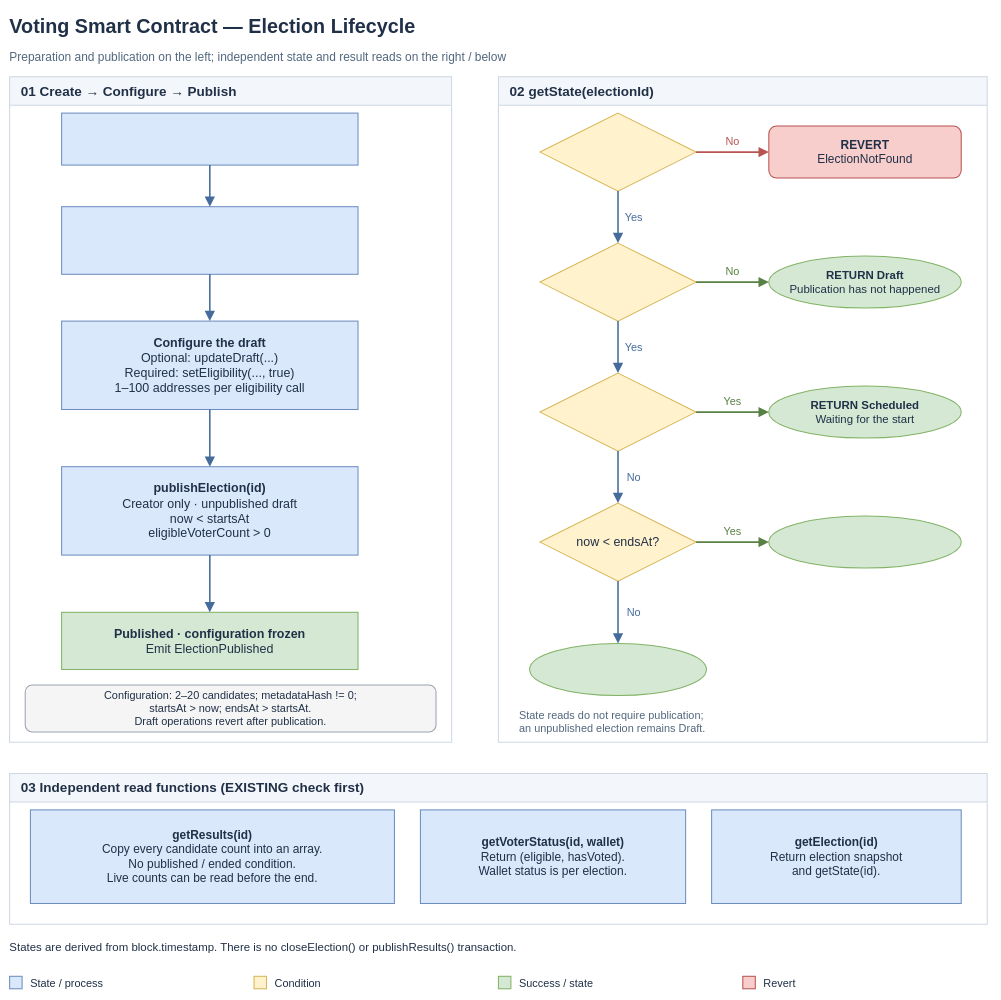
This 1001x1000 diagram has some shape labels left out. The centre of each missing label's shape, as x and y in pixels:
"createElection(...) Admin only · validate configuration" belongs at (209,138).
"Draft election published = false eligibleVoterCount = totalVotes = 0" belongs at (209,240).
"Election exists?" belongs at (617,151).
"Election published?" belongs at (617,281).
"now < startsAt?" belongs at (617,411).
"RETURN Active Voting window is open" belongs at (864,541).
"RETURN Ended now ≥ endsAt" belongs at (618,669).
